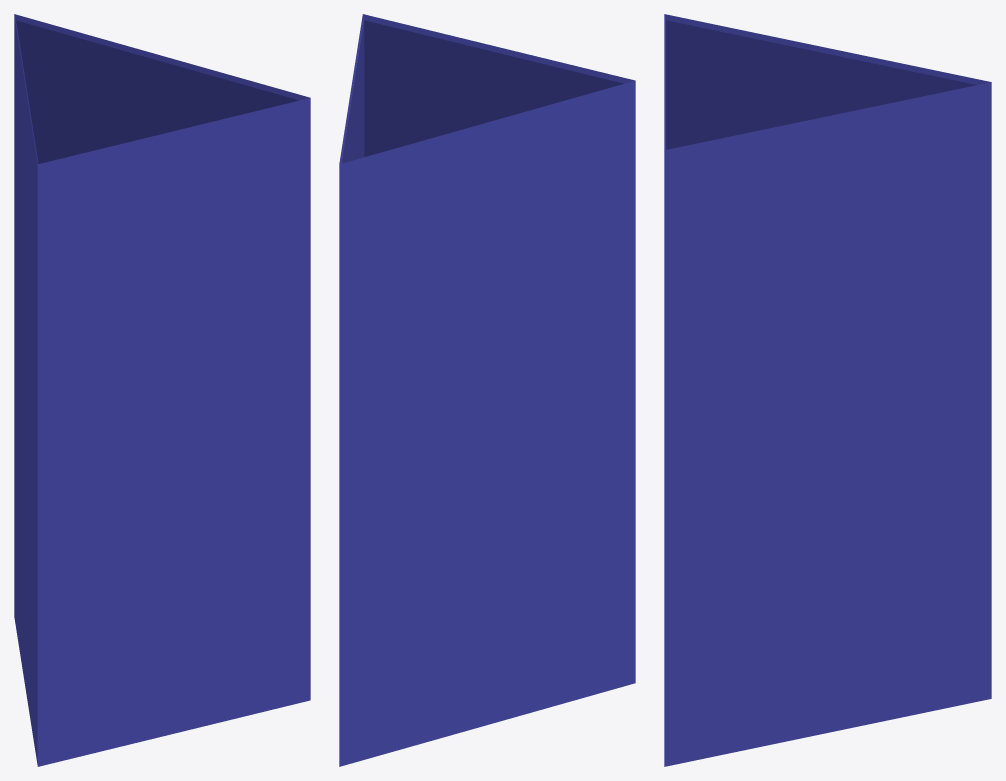
The model's file is tuboplastico.fbx.
The picture shows the model from 3 angles, left to right: view 1: azimuth 30°, elevation 25°; view 2: azimuth 150°, elevation 25°; view 3: azimuth 270°, elevation 25°; orthographic projection. The views are drawn at different scales.
Parts seen in each view (by area): view 1: Cylinder; view 2: Cylinder; view 3: Cylinder.
Part boxes in pixels (x1,y1,x2,y2): Cylinder: [14, 14, 310, 766]; Cylinder: [339, 14, 635, 766]; Cylinder: [664, 14, 991, 766].
Bounding box in the file's own units: 34.79 × 73.41 × 35.32.
Materials: 1 (1 with a texture image).
